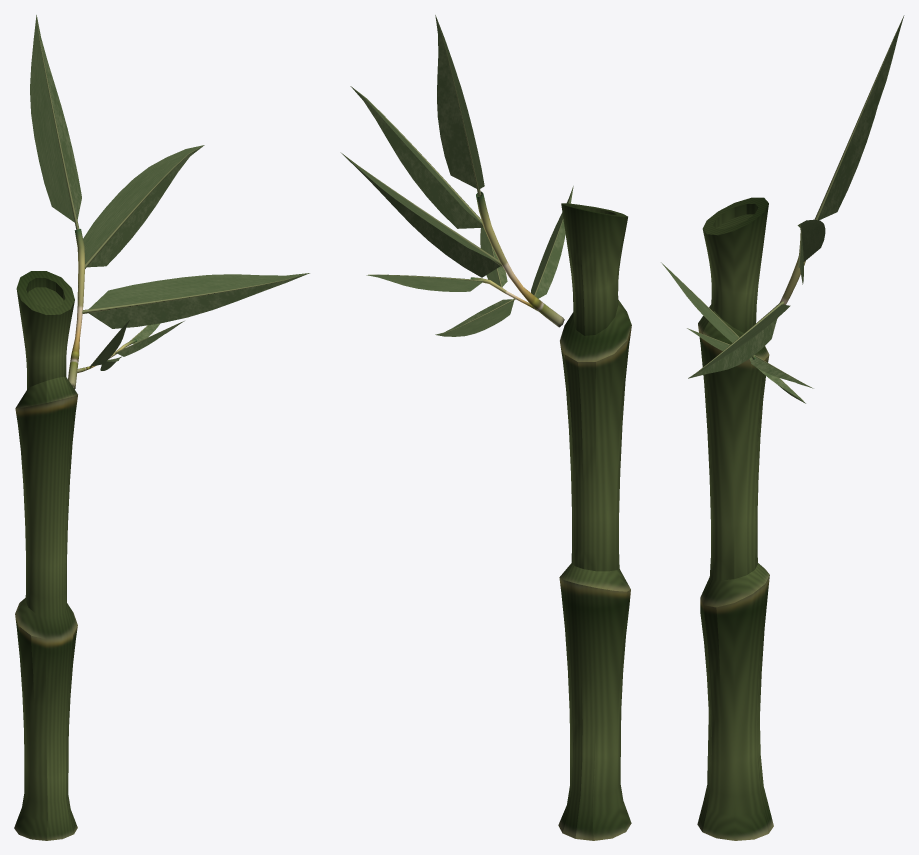
Rendered from Bambus 4.fbx.
The picture shows the model from 3 angles, left to right: view 1: azimuth 30°, elevation 25°; view 2: azimuth 150°, elevation 25°; view 3: azimuth 270°, elevation 25°; orthographic projection. The views are drawn at different scales.
Visible parts, largest first — view 1: Cylinder.035, BambusSmallBranch3.017; view 2: Cylinder.035, BambusSmallBranch3.017; view 3: Cylinder.035, BambusSmallBranch3.017.
Part boxes in pixels (x1=…): Cylinder.035: x1=14, y1=271, x2=77, y2=840; BambusSmallBranch3.017: x1=30, y1=15, x2=309, y2=389; Cylinder.035: x1=558, y1=203, x2=631, y2=840; BambusSmallBranch3.017: x1=340, y1=15, x2=573, y2=336; Cylinder.035: x1=697, y1=197, x2=773, y2=840; BambusSmallBranch3.017: x1=661, y1=15, x2=904, y2=403.
Bounding box in the file's own units: 0.6538 × 1.72 × 0.4475.
Materials: 5 (4 with a texture image).
